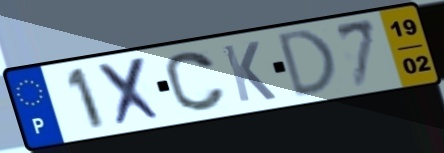1: (66, 64, 109, 133)
7: (333, 15, 379, 92)
C: (162, 50, 230, 115)
D: (275, 27, 341, 102)
K: (219, 39, 280, 105)
X: (94, 54, 167, 129)
